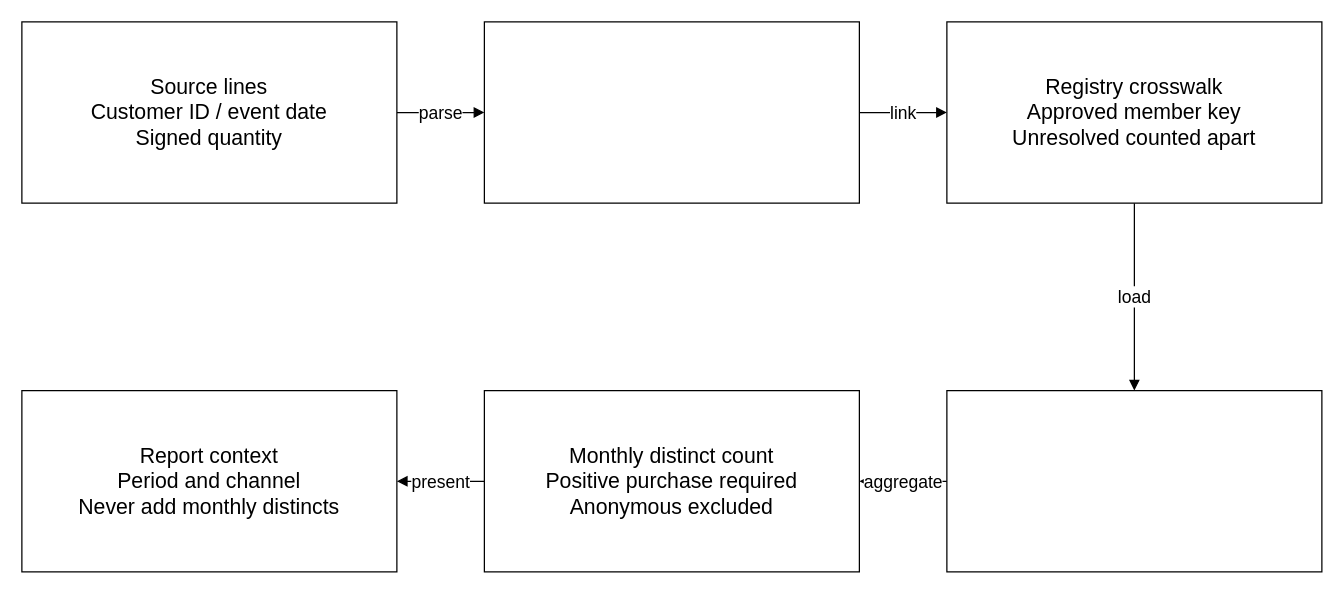
This 1344x594 diagram has some shape labels left out. Each missing label, with the centre of its shape:
Certified fact Reconcile source totals Reject conflicting replays: (1134,480)
Source contract Kampala calendar date Keep refunds negative: (671,112)
